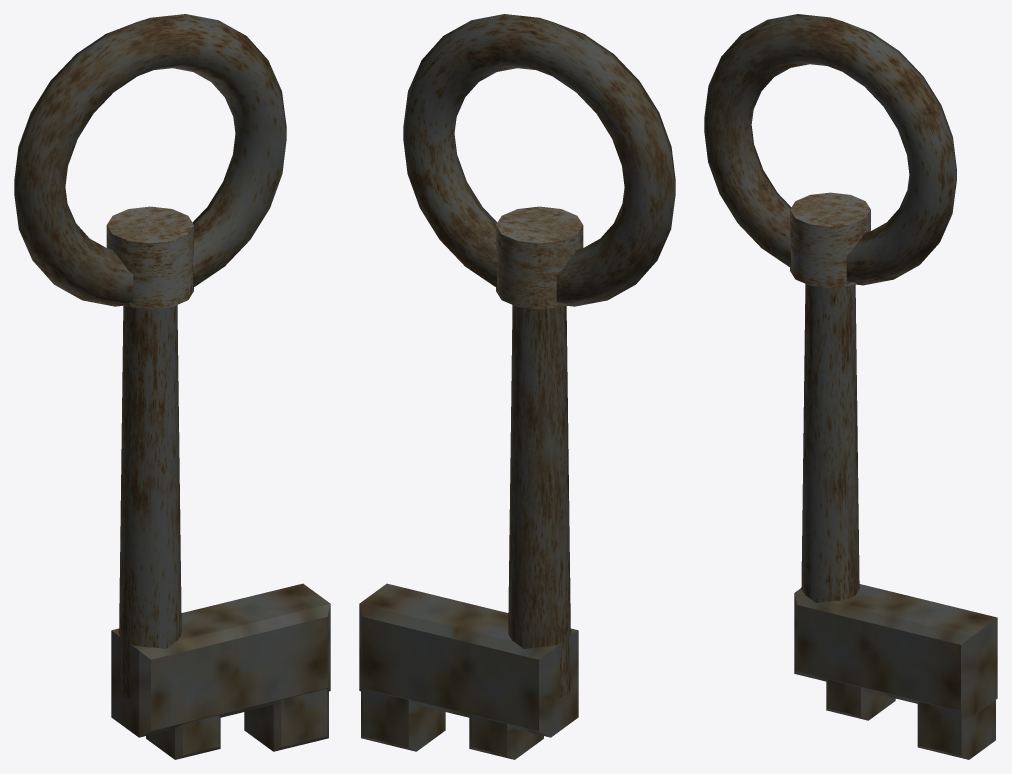
The model's file is key.glb.
The picture shows the model from 3 angles, left to right: view 1: azimuth 30°, elevation 25°; view 2: azimuth 150°, elevation 25°; view 3: azimuth 330°, elevation 25°; orthographic projection. The views are drawn at different scales.
Parts seen in each view (by area): view 1: KeyRoot; view 2: KeyRoot; view 3: KeyRoot.
Boxes of the visible parts, x1,y1,x2,y2 form: KeyRoot: (14,14,330,759); KeyRoot: (359,14,675,759); KeyRoot: (704,14,997,759).
Size of the model in its own units: 0.12 by 0.284 by 0.03.
Materials: 2 (2 with a texture image).
